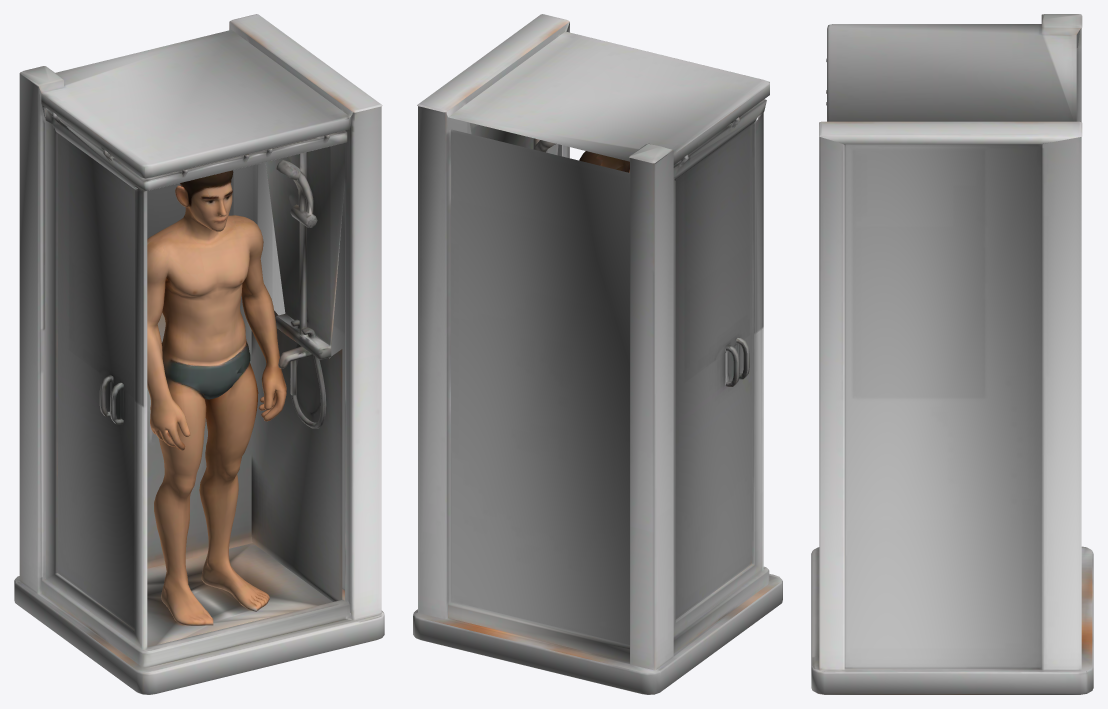
File: Appliances__shower_stall_realistic_style_5fd28386_v1.cluster.glb
3 views of the same model, side by side, from view 1: azimuth 30°, elevation 25°; view 2: azimuth 150°, elevation 25°; view 3: azimuth 270°, elevation 25° (orthographic). The views are drawn at different scales.
Visible parts, largest first — view 1: texture_pbr_20250901; view 2: texture_pbr_20250901; view 3: texture_pbr_20250901.
Part boxes in pixels (x1=…): texture_pbr_20250901: x1=14, y1=14, x2=384, y2=694; texture_pbr_20250901: x1=413, y1=14, x2=782, y2=694; texture_pbr_20250901: x1=811, y1=14, x2=1093, y2=694.
Bounding box in the file's own units: 0.9258 × 1.9 × 0.8711.
Materials: 1 (1 with a texture image).
